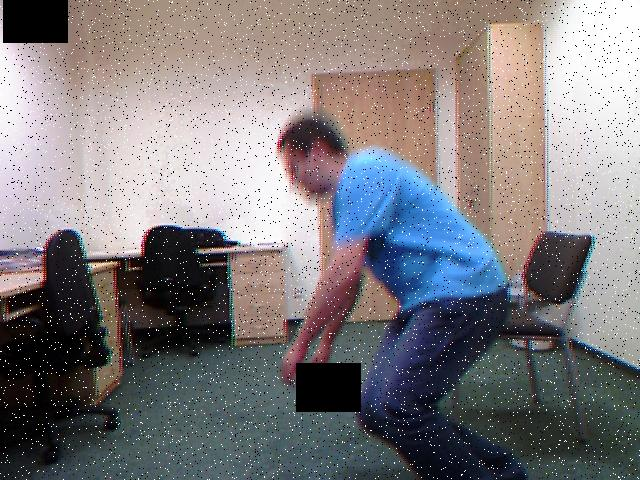near-fall: (252, 102, 537, 480)
